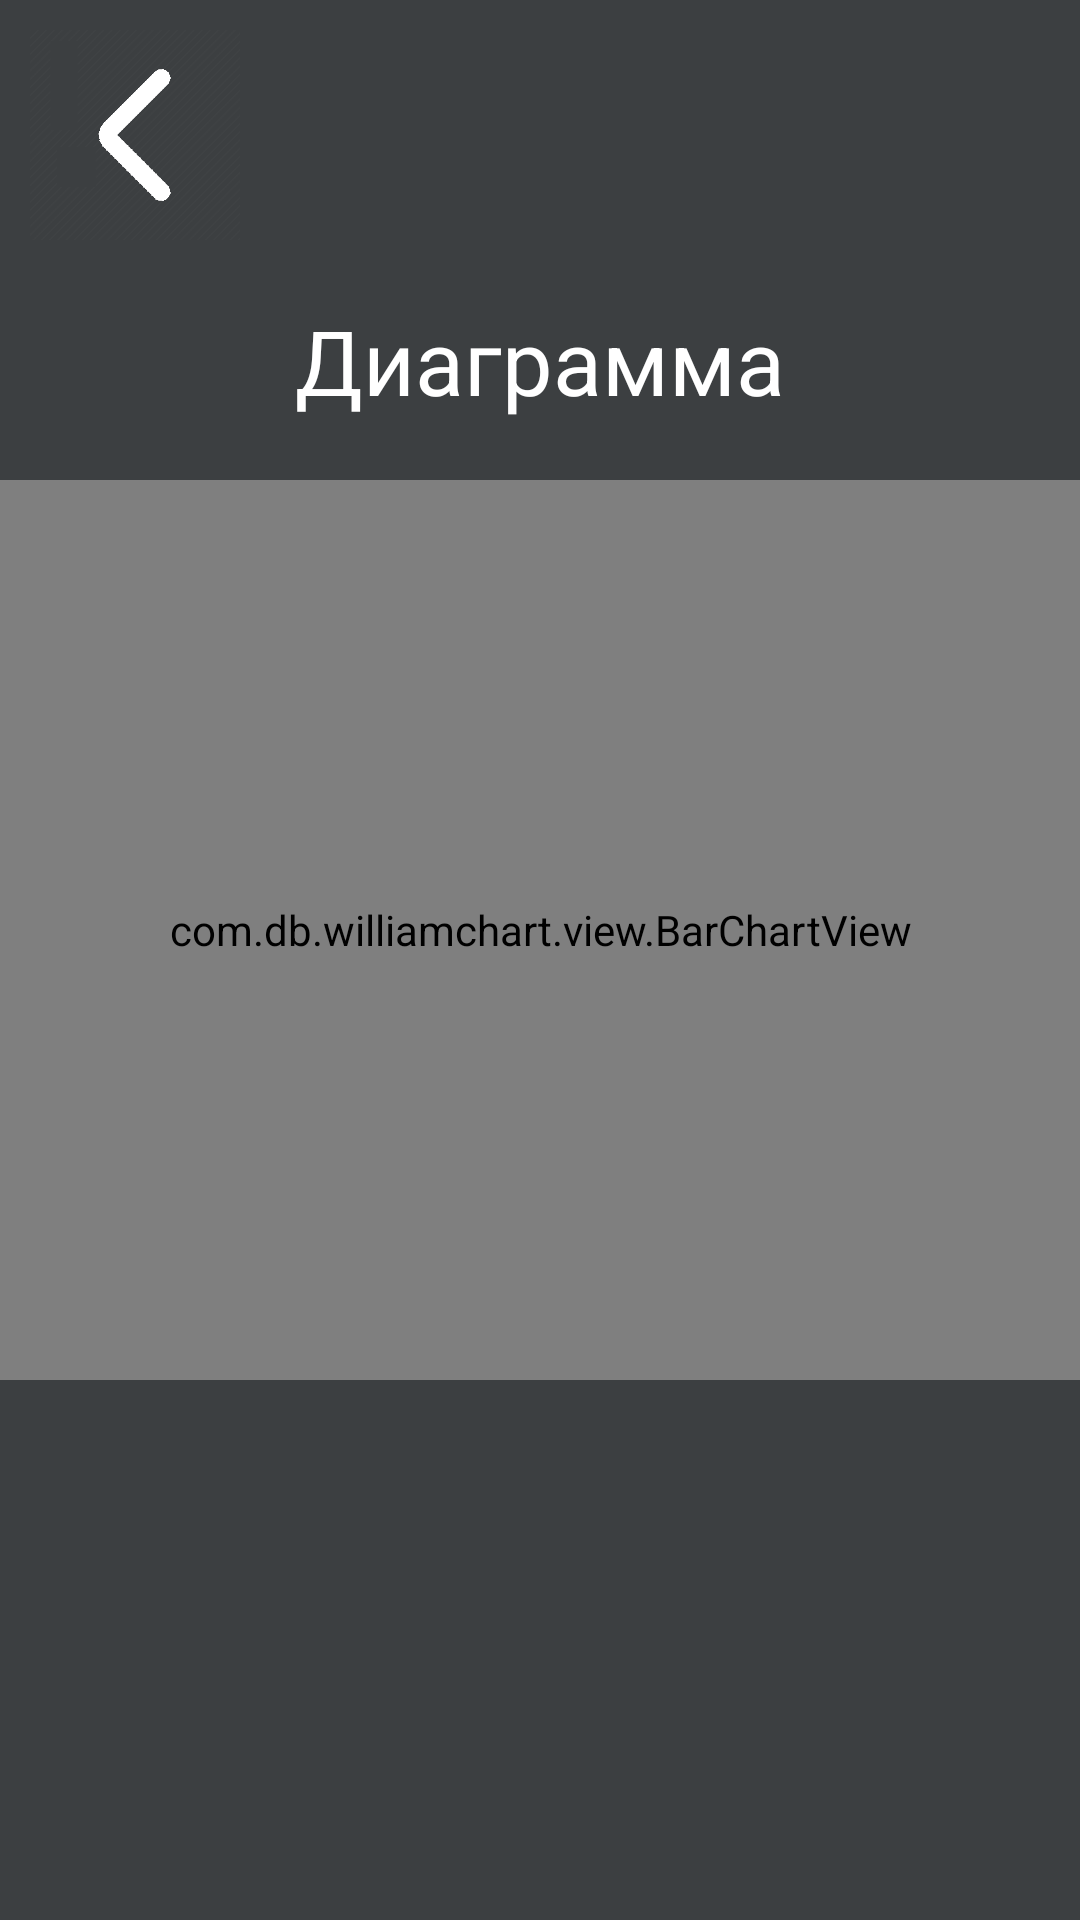

Where to tap for icons on this 1080w x 1920h app screen, as point (x, y):
arrow: point (134, 135)
